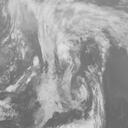cyclone: (43, 36, 105, 101)
